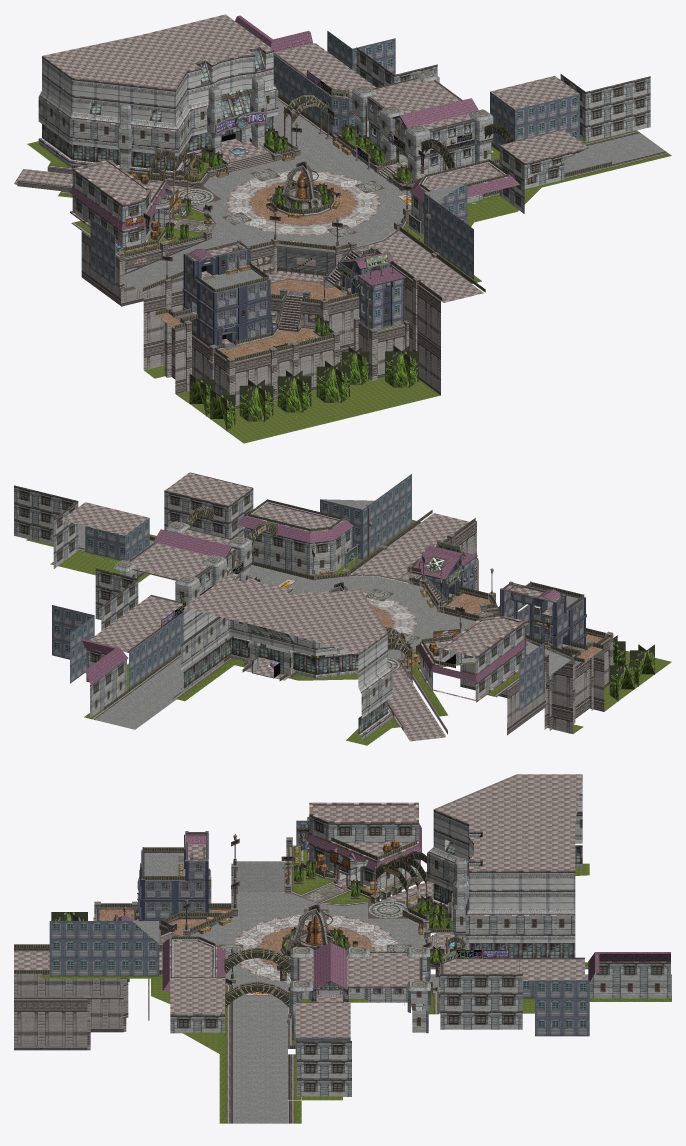
The model's file is CentralSquare.glb.
3 views of the same model, one above another, from view 1: azimuth 30°, elevation 25°; view 2: azimuth 150°, elevation 25°; view 3: azimuth 270°, elevation 25° (orthographic). The views are drawn at different scales.
Visible parts, largest first — view 1: Object.589, Object.571, Object.742, Object.694, Object.683, Object.666, Object.681, Object.837, Object.667, Object.836, Object.737, Object.768 (+84 smaller); view 2: Object.683, Object.696, Object.692, Object.768, Object.694, Object.767, Object.766, Object.571, Object.682, Object.666, Object.764, Object.728 (+68 smaller); view 3: Object.589, Object.683, Object.690, Object.682, Object.768, Object.693, Object.766, Object.689, Object.767, Object.611, Object.603, Object.695 (+50 smaller).
Part boxes in pixels (box(x1,y1,x2,y2)): Object.589: box(358, 274, 440, 395); Object.571: box(82, 244, 185, 370); Object.742: box(70, 95, 184, 176); Object.694: box(585, 76, 650, 142); Object.683: box(424, 182, 473, 279); Object.666: box(186, 249, 267, 344); Object.681: box(490, 92, 579, 148); Object.837: box(207, 332, 311, 421); Object.667: box(182, 241, 271, 345); Object.836: box(298, 291, 371, 402); Object.737: box(70, 105, 184, 171); Object.768: box(78, 14, 225, 190); Object.683: box(320, 474, 411, 559); Object.696: box(245, 527, 352, 575); Object.692: box(164, 488, 253, 538); Object.768: box(184, 599, 478, 660); Object.694: box(14, 485, 77, 544); Object.767: box(267, 620, 518, 653); Object.766: box(325, 589, 519, 652); Object.571: box(499, 639, 572, 734); Object.682: box(52, 605, 94, 683); Object.666: box(501, 590, 583, 654); Object.764: box(209, 581, 340, 620); Object.728: box(165, 473, 293, 521); Object.589: box(14, 948, 123, 1050); Object.683: box(49, 921, 159, 976); Object.690: box(407, 973, 521, 1033); Object.682: box(535, 980, 589, 1036); Object.768: box(365, 803, 575, 870); Object.693: box(297, 1041, 351, 1096); Object.766: box(313, 774, 520, 886); Object.689: box(589, 961, 670, 998); Object.767: box(313, 774, 582, 825); Object.611: box(233, 1054, 287, 1100); Object.603: box(212, 884, 315, 931); Object.695: box(441, 973, 522, 1029).
Bounding box in the file's own units: 99.02 × 32.65 × 96.
19 materials, 19 textured.
